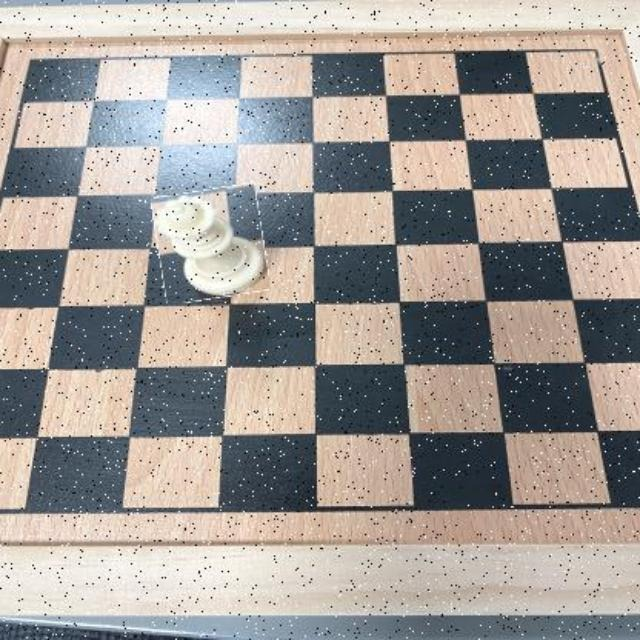white-queen: (155, 188, 267, 301)
